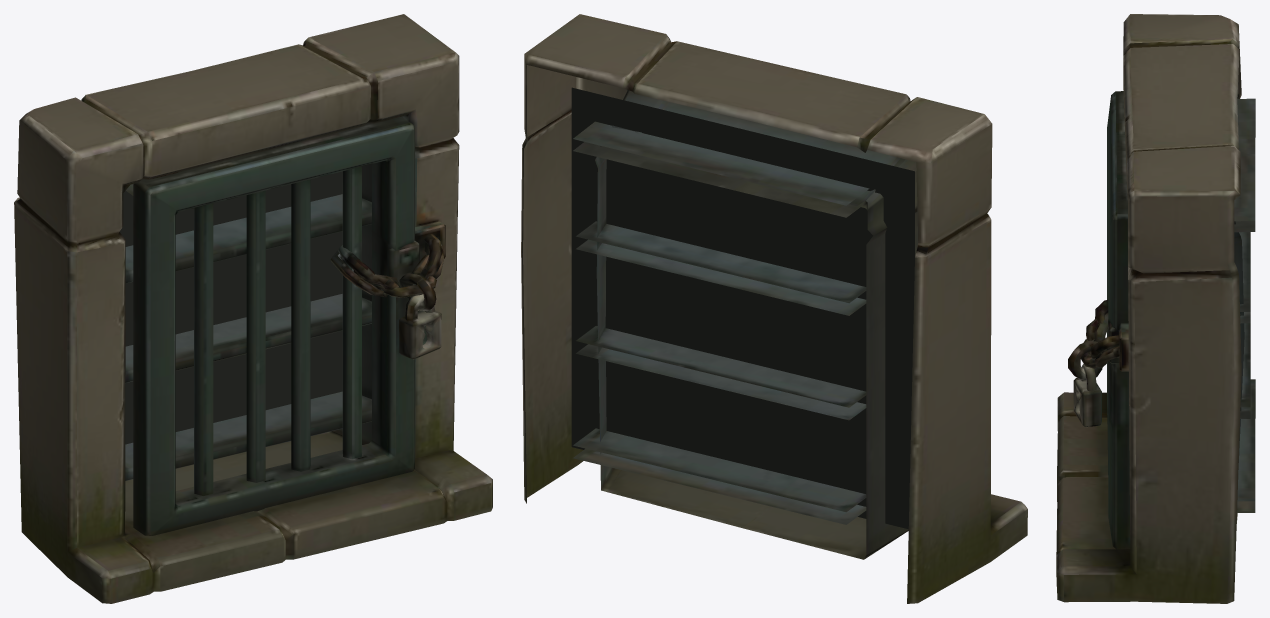
File: SewerDoor_BarredGate_90s.fbx
3 renders of one model, left to right at view 1: azimuth 30°, elevation 25°; view 2: azimuth 150°, elevation 25°; view 3: azimuth 270°, elevation 25°, orthographic. The views are drawn at different scales.
Parts seen in each view (by area): view 1: SewerDoor_BarredGate_90s; view 2: SewerDoor_BarredGate_90s; view 3: SewerDoor_BarredGate_90s.
Part boxes in pixels (box(x1,y1,x2,y2)): SewerDoor_BarredGate_90s: box(14, 14, 492, 603); SewerDoor_BarredGate_90s: box(521, 14, 1027, 603); SewerDoor_BarredGate_90s: box(1056, 14, 1255, 603).
Size of the model in its own units: 184 by 191 by 83.51.
1 material, 1 textured.
